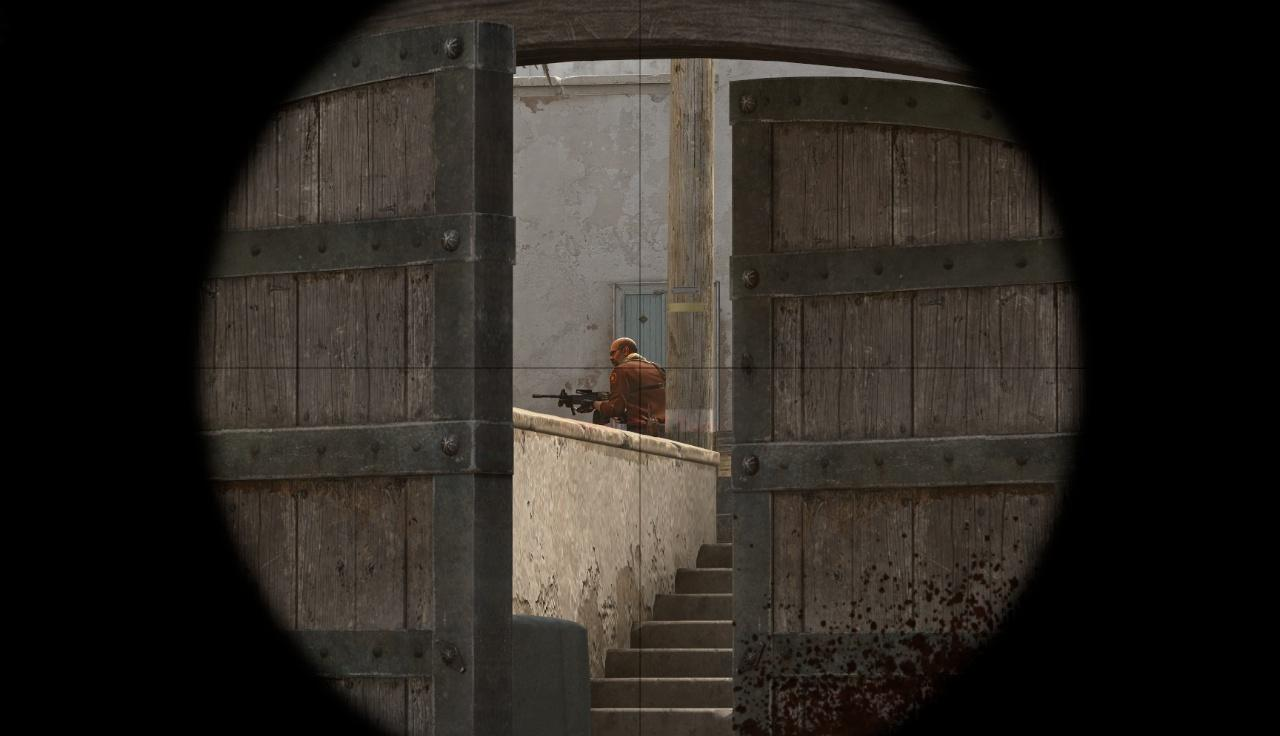tt: (601, 337, 670, 441)
tthead: (610, 338, 636, 365)
